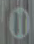Two way: (4, 4, 33, 38)
